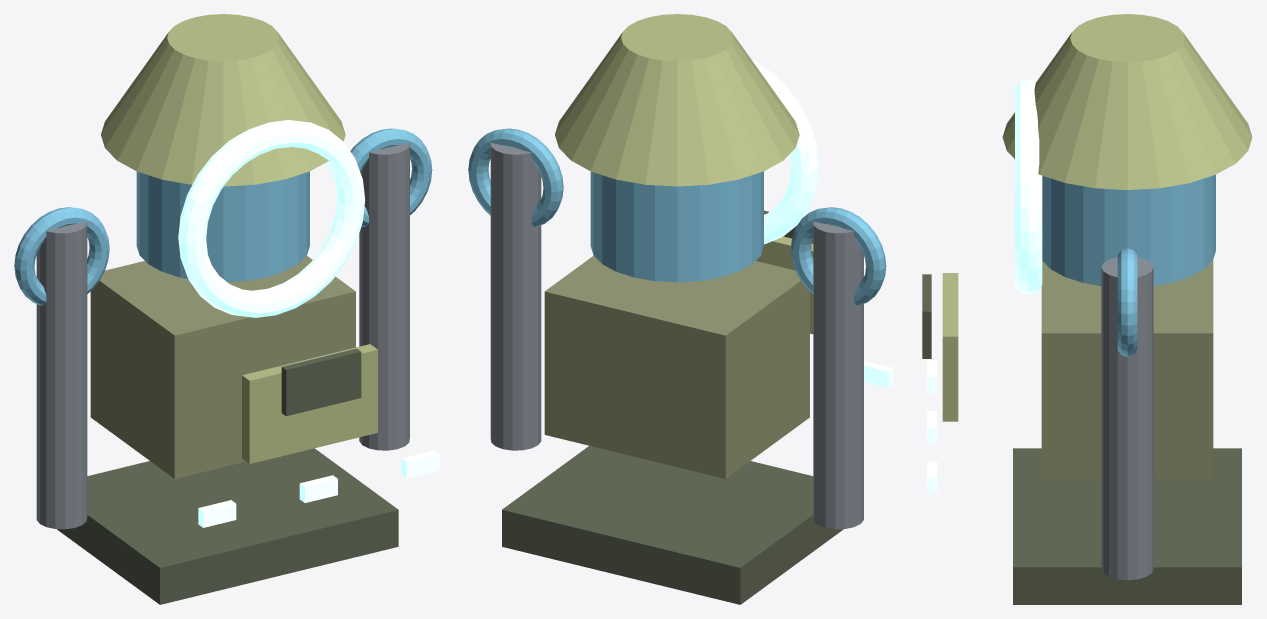
Rendered from asset.glb.
The picture shows the model from 3 angles, left to right: view 1: azimuth 30°, elevation 25°; view 2: azimuth 150°, elevation 25°; view 3: azimuth 270°, elevation 25°; orthographic projection. The views are drawn at different scales.
Visible parts, largest first — view 1: Housing, Foot, TopCap, SidePost_-1, CoreHalo, Core, SidePost_1, FrontInset, ControlFace, SideRing_-1, SideRing_1, FunctionalTrim_1 (+2 smaller); view 2: Housing, Foot, TopCap, Core, SidePost_1, SidePost_-1, CoreHalo, SideRing_-1, SideRing_1, FrontInset, FunctionalTrim_0; view 3: TopCap, Foot, Housing, SidePost_1, Core, CoreHalo, FrontInset, SideRing_1, ControlFace.
Part boxes in pixels (x1=…): Housing: x1=90, y1=256, x2=355, y2=478; Foot: x1=57, y1=448, x2=398, y2=604; TopCap: x1=101, y1=14, x2=345, y2=186; SidePost_-1: x1=36, y1=216, x2=87, y2=529; CoreHalo: x1=178, y1=120, x2=365, y2=317; Core: x1=136, y1=171, x2=309, y2=282; SidePost_1: x1=359, y1=137, x2=409, y2=450; FrontInset: x1=242, y1=344, x2=377, y2=463; ControlFace: x1=281, y1=348, x2=361, y2=416; SideRing_-1: x1=14, y1=207, x2=109, y2=305; SideRing_1: x1=350, y1=128, x2=432, y2=226; FunctionalTrim_1: x1=299, y1=475, x2=337, y2=502; Housing: x1=544, y1=255, x2=809, y2=478; Foot: x1=502, y1=446, x2=843, y2=604; TopCap: x1=555, y1=14, x2=799, y2=186; Core: x1=590, y1=171, x2=763, y2=282; SidePost_1: x1=490, y1=137, x2=541, y2=450; SidePost_-1: x1=813, y1=216, x2=863, y2=529; CoreHalo: x1=752, y1=60, x2=819, y2=244; SideRing_-1: x1=791, y1=207, x2=886, y2=305; SideRing_1: x1=468, y1=128, x2=563, y2=226; FrontInset: x1=756, y1=236, x2=813, y2=334; FunctionalTrim_0: x1=864, y1=361, x2=893, y2=387; TopCap: x1=1002, y1=14, x2=1252, y2=189; Foot: x1=1013, y1=448, x2=1241, y2=604; Housing: x1=1041, y1=260, x2=1213, y2=479; SidePost_1: x1=1101, y1=257, x2=1153, y2=580; Core: x1=1042, y1=174, x2=1215, y2=285; CoreHalo: x1=1015, y1=79, x2=1042, y2=294; FrontInset: x1=942, y1=273, x2=958, y2=421; SideRing_1: x1=1117, y1=248, x2=1137, y2=356; ControlFace: x1=922, y1=274, x2=931, y2=358.
Bounding box in the file's own units: 1.88 × 2.15 × 1.27.
